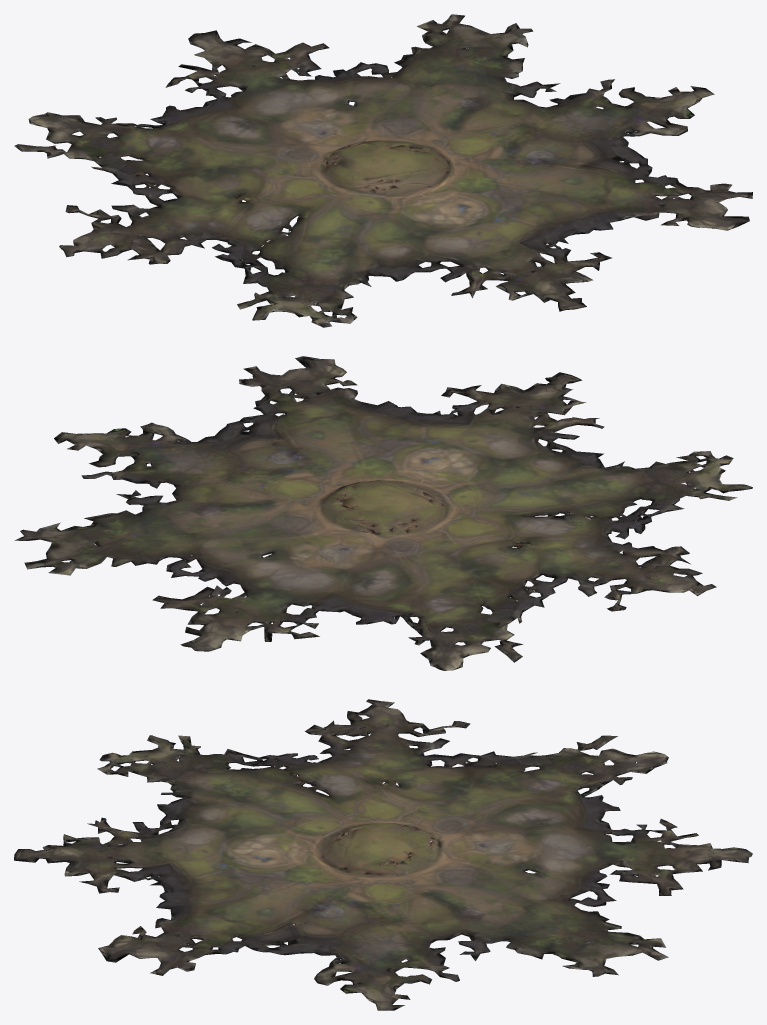
The model's file is create_a_battlefield__0614154007_texture.glb.
3 renders of one model, top to bottom at view 1: azimuth 30°, elevation 25°; view 2: azimuth 150°, elevation 25°; view 3: azimuth 270°, elevation 25°, orthographic. The views are drawn at different scales.
Bounding box in the file's own units: 1.98 × 0.0564 × 1.98.
Materials: 1 (1 with a texture image).
